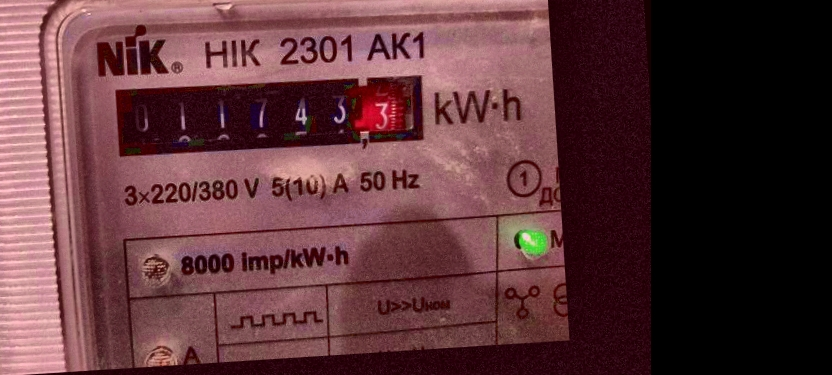0: (129, 98, 151, 135)
1: (212, 94, 229, 129), (175, 97, 187, 130)
3: (326, 89, 347, 126), (371, 99, 391, 133)
4: (289, 92, 308, 127)
7: (250, 93, 270, 128)
screen: (99, 57, 438, 172)
